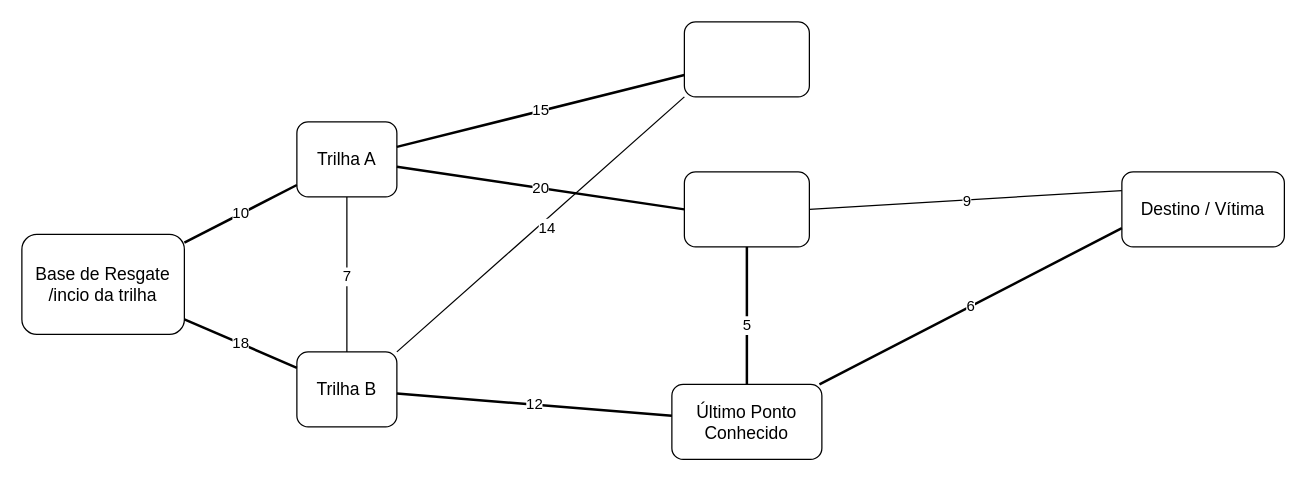
This 1306x481 diagram has some shape labels left out. The shapes that lost their labels are listed below. From the top down, each one's centre as x and y in pixels, then its label:
At (x=746, y=59): "Abrigo /obijetivo".
At (x=746, y=209): "Área de Risco".
